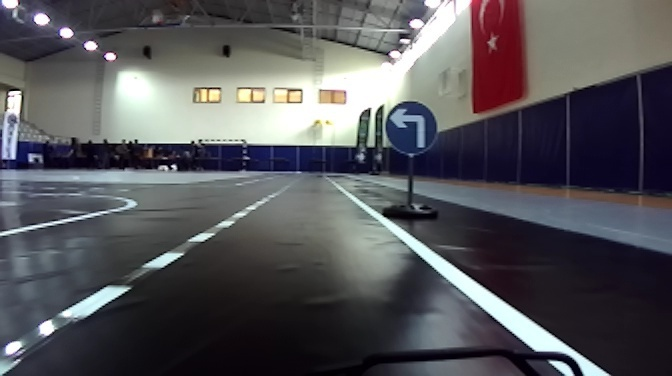sola_donus: (384, 99, 439, 153)
